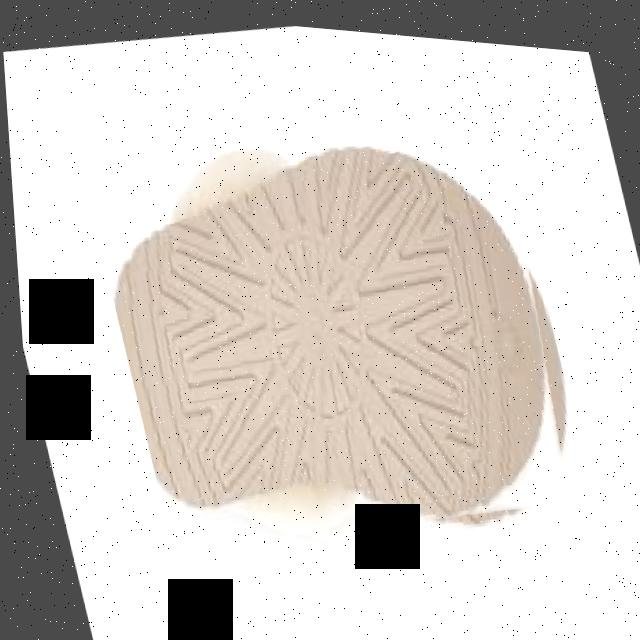shoe: (111, 142, 545, 531)
